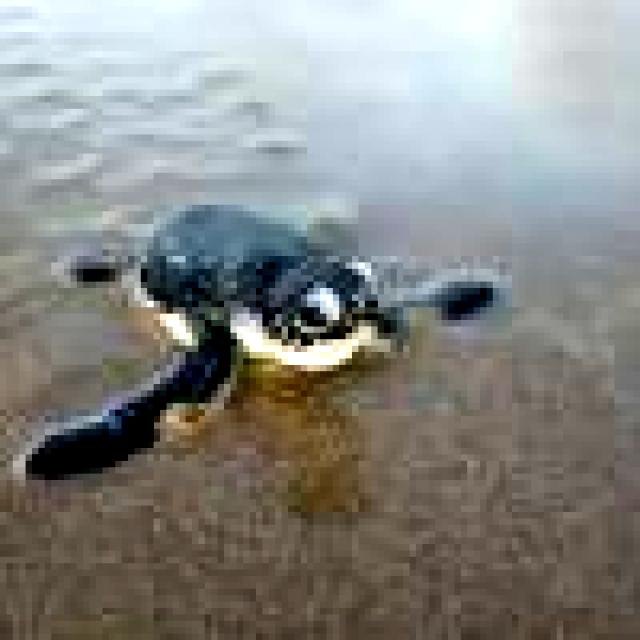Sea turtle: (26, 191, 501, 482)
